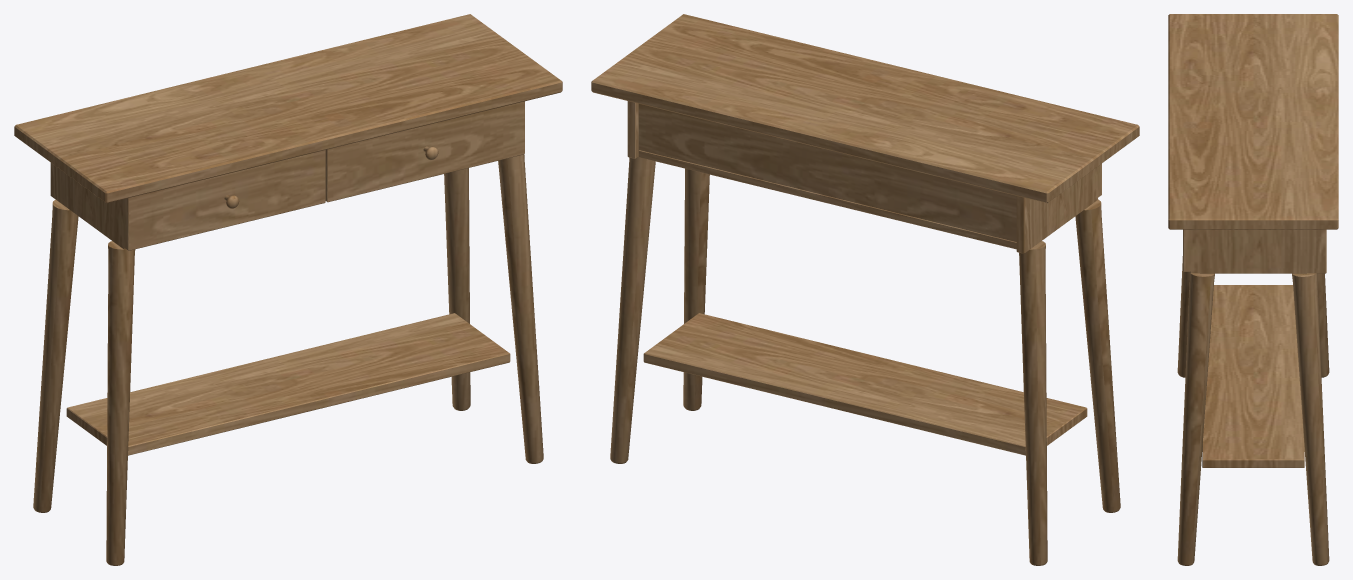
File: consola_roble_100.glb
The picture shows the model from 3 angles, left to right: view 1: azimuth 30°, elevation 25°; view 2: azimuth 150°, elevation 25°; view 3: azimuth 270°, elevation 25°; orthographic projection. The views are drawn at different scales.
Visible parts, largest first — view 1: consola_roble_100; view 2: consola_roble_100; view 3: consola_roble_100.
Boxes of the visible parts, box(x1,y1,x2,y2) form: consola_roble_100: box(14, 14, 562, 565); consola_roble_100: box(591, 14, 1139, 565); consola_roble_100: box(1168, 14, 1338, 565).
Bounding box in the file's own units: 1 × 0.8003 × 0.35.
1 material, 1 textured.
